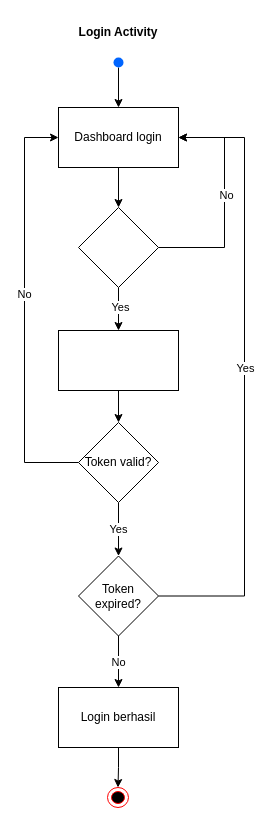
Image size: 271x825. Some labels were removed from this diagram. Each missing label, with the centre of its shape:
"Get Token" belongs at pixel 118 360.
"user and password valid?" belongs at pixel 118 247.
